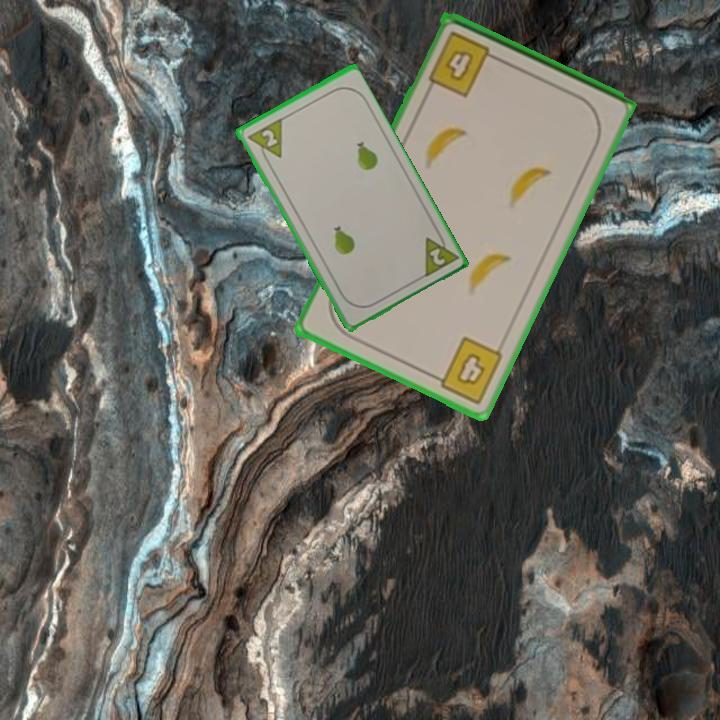2p: (419, 226, 460, 281), (243, 115, 285, 167)
4b: (427, 333, 506, 407), (425, 28, 503, 100)
